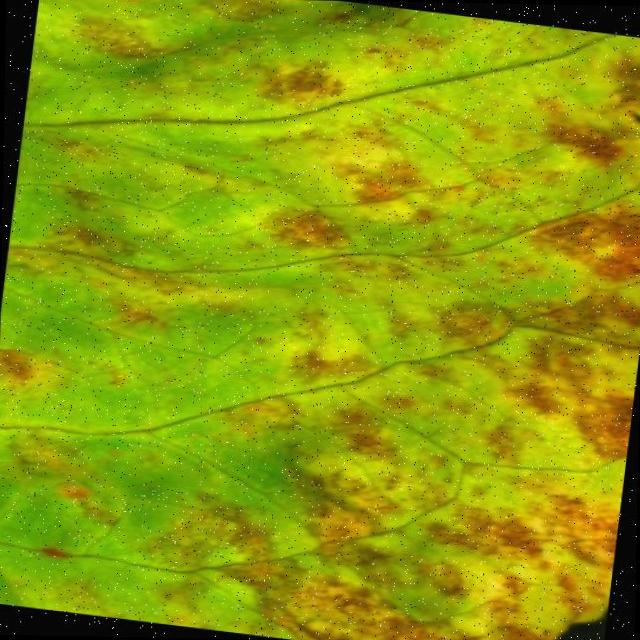Septoria_Blight: (0, 0, 640, 624)
